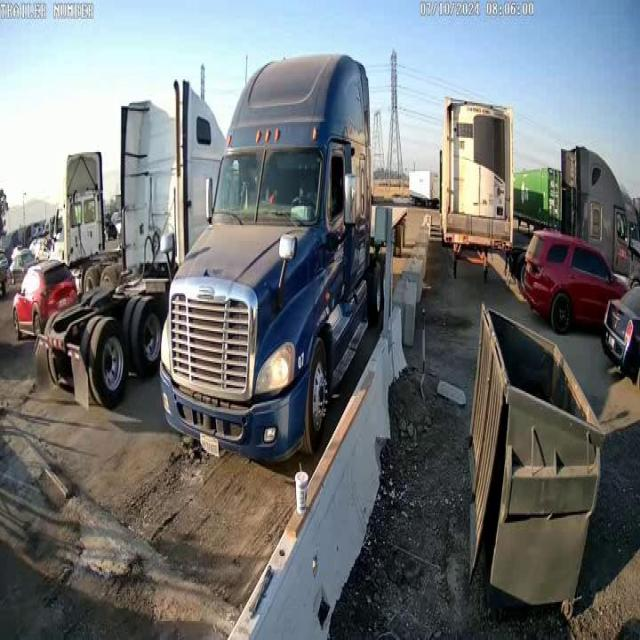TRUCK_IN: (158, 51, 386, 465)
